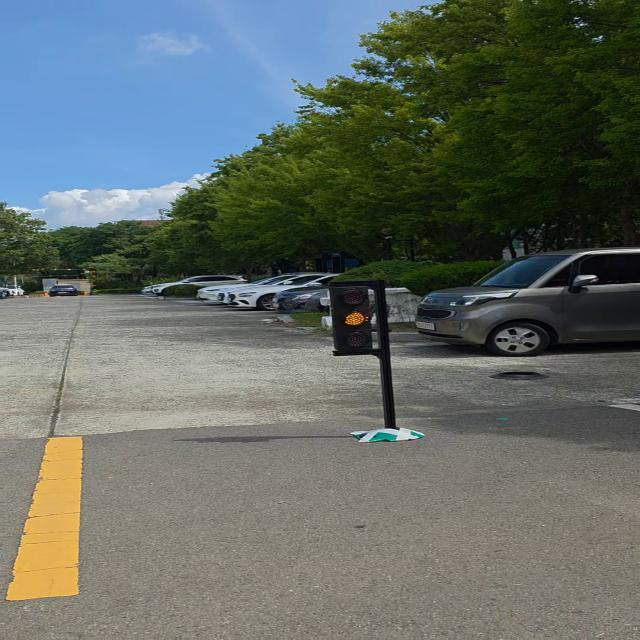yellow: (322, 279, 386, 360)
